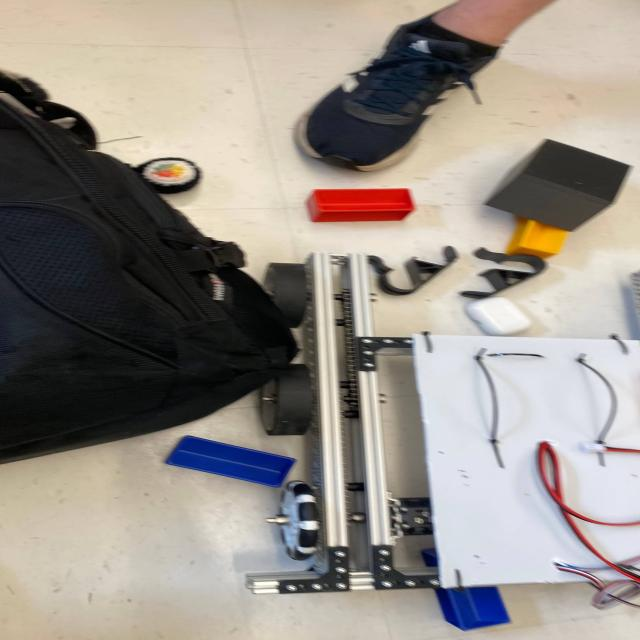blue-specimen: (165, 436, 296, 488), (435, 587, 510, 631), (422, 549, 437, 565)
red-specimen: (306, 188, 416, 223)
yellow-specimen: (505, 218, 568, 260)
